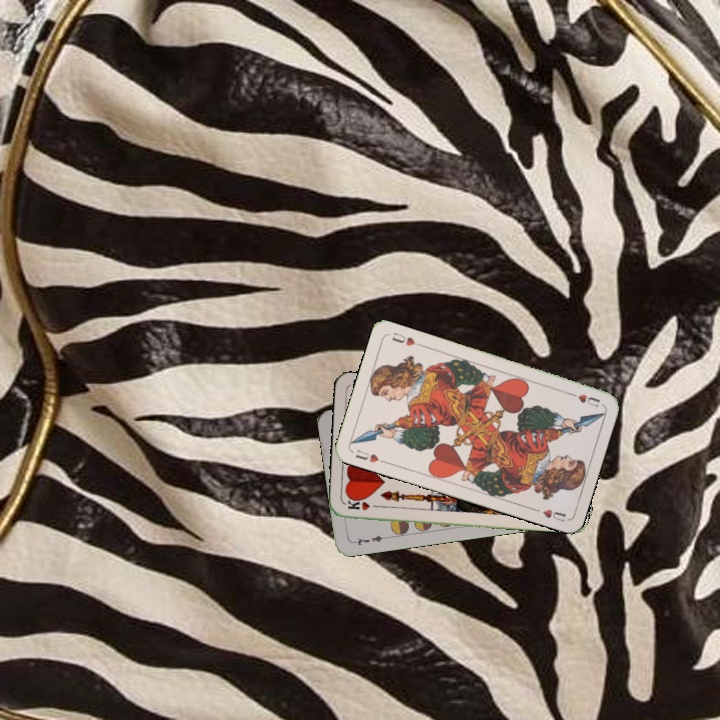E7: (349, 531, 389, 548)
HK: (343, 496, 384, 513)
HU: (565, 389, 603, 410), (351, 445, 388, 466)
